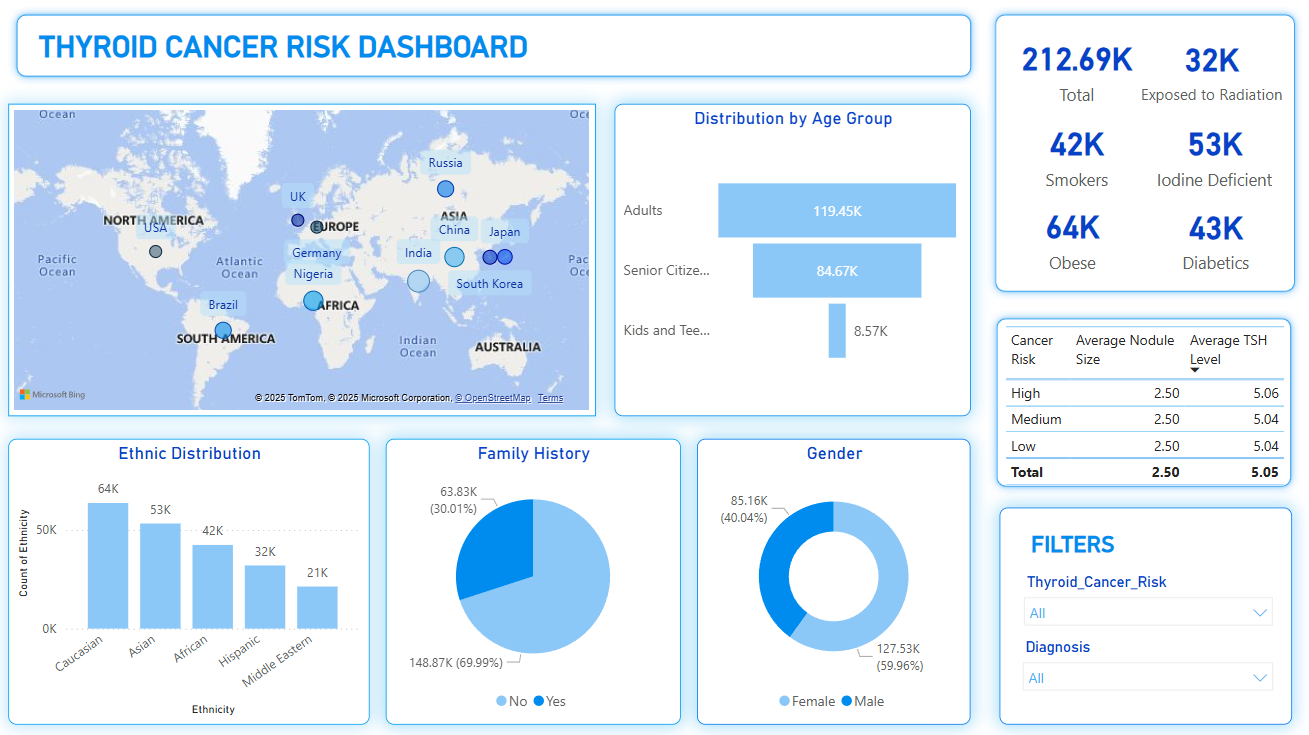

Layout of this report page (visuals, bound fields, positions):
{"tool":"powerbi","page":{"name":"Page 1","canvas":[1280,720],"ordinal":0},"visuals":[{"type":"shape","box":[15.7,15.7,937.4,76],"z":0},{"type":"textbox","box":[39.8,32,624.9,54.3],"z":1000},{"type":"shape","box":[960.3,15.7,305.2,283.5],"z":2000},{"type":"card","fields":{"Values":["thyroid_cancer_risk_data_qualitative.Obese"]},"box":[973.6,196.7,138.7,82],"z":3000,"group":"g1"},{"type":"card","fields":{"Values":["thyroid_cancer_risk_data_qualitative.Smokers"]},"box":[973.6,117,147.2,82],"z":4000,"group":"g1"},{"type":"card","fields":{"Values":["thyroid_cancer_risk_data_qualitative.Iodine_Deficient"]},"box":[1110.2,117.1,140.3,81.2],"z":5000,"group":"g1"},{"type":"card","fields":{"Values":["thyroid_cancer_risk_data_qualitative.Diabetics"]},"box":[1111.4,198.3,140.3,81.2],"z":6000,"group":"g1"},{"type":"shape","box":[972.4,499.5,282.3,209.9],"z":7000},{"type":"columnChart","title":"Ethnic Distribution","fields":{"Category":["thyroid_cancer_risk_data_qualitative.Ethnicity"],"Y":["CountNonNull(thyroid_cancer_risk_data_qualitative.Ethnicity)"]},"box":[15.7,433.1,348.7,276.3],"z":8000},{"type":"shape","box":[961.5,308.8,300.4,178.6],"z":8500},{"type":"donutChart","title":"Gender","fields":{"Y":["CountNonNull(thyroid_cancer_risk_data_qualitative.Diagnosis)"],"Category":["thyroid_cancer_risk_data_qualitative.Gender"]},"box":[680.4,433.1,264.2,276.3],"z":9000},{"type":"slicer","fields":{"Values":["thyroid_cancer_risk_data_qualitative.Thyroid_Cancer_Risk"]},"box":[985.7,557.4,260.6,62.7],"z":9000},{"type":"slicer","fields":{"Values":["thyroid_cancer_risk_data_qualitative.Diagnosis"]},"box":[984.5,620.1,261.8,67.6],"z":10000},{"type":"map","fields":{"Category":["Country Count.Country"],"Size":["Sum(Country Count.Country Count)"],"Series":["Country Count.Country"]},"box":[15.7,109.8,567,301.6],"z":11000},{"type":"tableEx","fields":{"Values":["thyroid_cancer_risk_data_qualitative.Thyroid_Cancer_Risk","Avg(thyroid_cancer_risk_data_quantitative.Nodule_Size)","Avg(thyroid_cancer_risk_data_quantitative.TSH_Level)"]},"box":[972.4,319.7,299.2,167.7],"z":11250},{"type":"funnel","title":"Distribution by Age Group","fields":{"Category":["thyroid_cancer_risk_data_qualitative.Age_Group"],"Y":["CountNonNull(thyroid_cancer_risk_data_qualitative.Age_Group)"]},"box":[600.8,109.8,343.8,301.6],"z":12000},{"type":"pieChart","title":"Family History","fields":{"Category":["thyroid_cancer_risk_data_qualitative.Family_History"],"Y":["CountNonNull(thyroid_cancer_risk_data_qualitative.Family_History)"]},"box":[380,433.1,284.7,276.3],"z":15000},{"type":"textbox","box":[997.7,517.6,248.5,54.3],"z":15001},{"type":"card","fields":{"Values":["CountNonNull(thyroid_cancer_risk_data_qualitative.Country)"]},"box":[973.6,35,147.2,82],"z":15002,"group":"g1"},{"type":"card","fields":{"Values":["thyroid_cancer_risk_data_qualitative.Radiation Exposure"]},"box":[1103.9,35,147.2,82],"z":15003,"group":"g1"},{"type":"group","id":"g1","title":"Group 1","box":[973.6,35,278.7,244.9],"z":15004}]}

Visuals, with their boxes in screenshot pixels (x1, y1, x2, y2), scaled from the page's 1280x720 canvas onto the 1309x735 screenshot:
shape: 16/16/975/94
textbox: 41/33/680/88
shape: 982/16/1294/305
card - thyroid_cancer_risk_data_qualitative.Obese: 996/201/1138/285
card - thyroid_cancer_risk_data_qualitative.Smokers: 996/119/1146/203
card - thyroid_cancer_risk_data_qualitative.Iodine_Deficient: 1135/120/1279/202
card - thyroid_cancer_risk_data_qualitative.Diabetics: 1137/202/1280/285
shape: 994/510/1283/724
"Ethnic Distribution" columnChart: 16/442/373/724
shape: 983/315/1290/498
"Gender" donutChart: 696/442/966/724
slicer - thyroid_cancer_risk_data_qualitative.Thyroid_Cancer_Risk: 1008/569/1275/633
slicer - thyroid_cancer_risk_data_qualitative.Diagnosis: 1007/633/1275/702
map - Country Count.Country x Sum(Country Count.Country Count): 16/112/596/420
tableEx - thyroid_cancer_risk_data_qualitative.Thyroid_Cancer_Risk x Avg(thyroid_cancer_risk_data_quantitative.Nodule_Size): 994/326/1300/498
"Distribution by Age Group" funnel: 614/112/966/420
"Family History" pieChart: 389/442/680/724
textbox: 1020/528/1274/584
card - CountNonNull(thyroid_cancer_risk_data_qualitative.Country): 996/36/1146/119
card - thyroid_cancer_risk_data_qualitative.Radiation Exposure: 1129/36/1279/119
"Group 1" group: 996/36/1281/286
